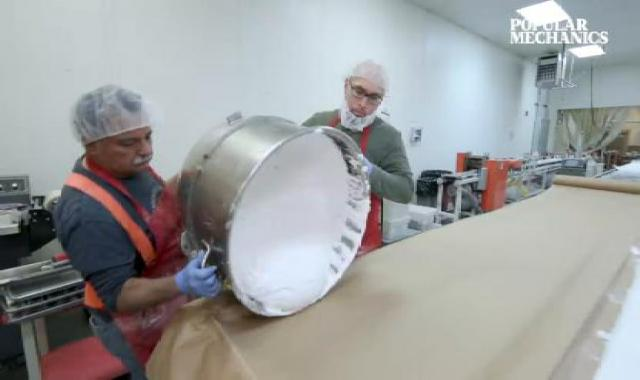hairnet: (59, 78, 161, 148), (334, 59, 414, 101)
